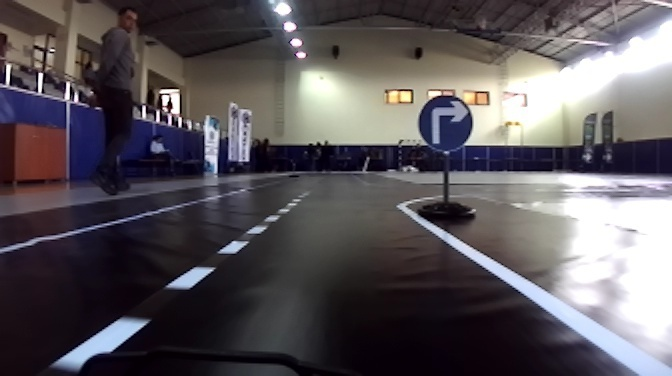saga_donus: (417, 95, 472, 148)
